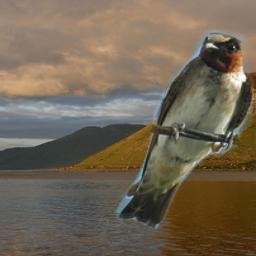Swallow: (114, 29, 254, 229)
